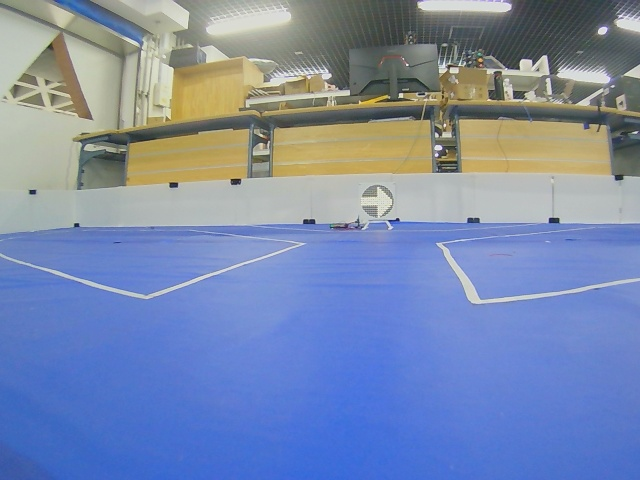right_yellow: (361, 185, 394, 218)
